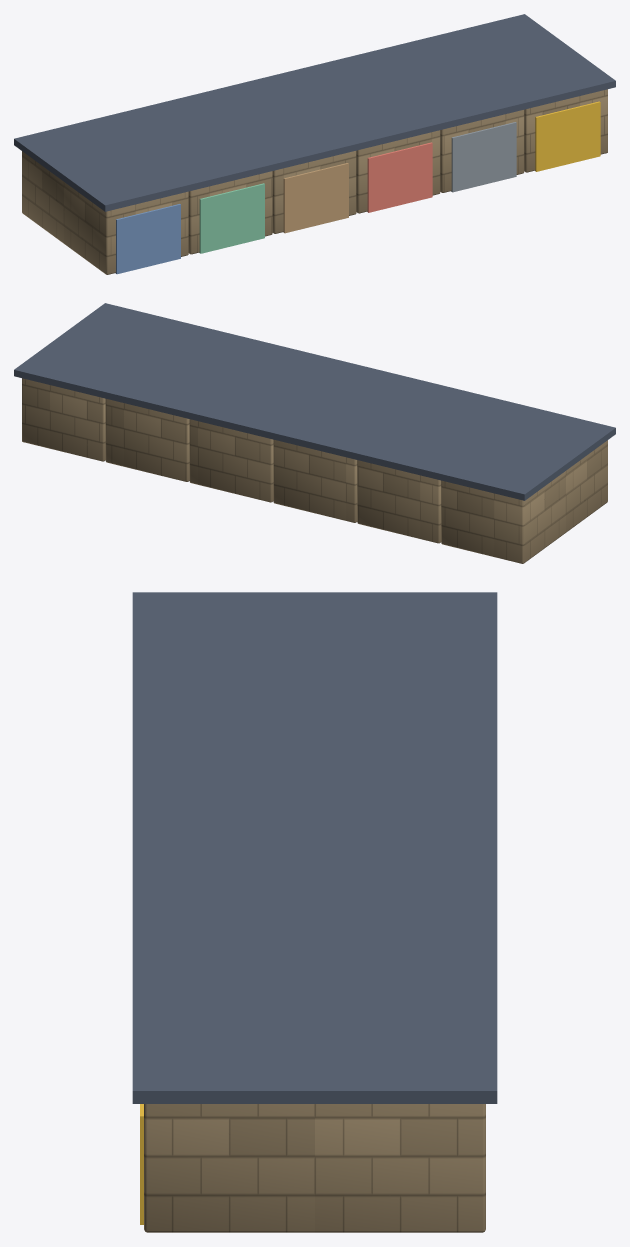
File: garages_row.gltf
The picture shows the model from 3 angles, top to bottom: view 1: azimuth 30°, elevation 25°; view 2: azimuth 150°, elevation 25°; view 3: azimuth 270°, elevation 25°; orthographic projection. The views are drawn at different scales.
Visible parts, largest first — view 1: garages_row_mesh; view 2: garages_row_mesh; view 3: garages_row_mesh.
Boxes of the visible parts, bbox=[...] form: garages_row_mesh: bbox=[14, 14, 615, 274]; garages_row_mesh: bbox=[14, 303, 615, 563]; garages_row_mesh: bbox=[132, 592, 497, 1232].
Size of what is drawn, in the model's own units: 20.7 by 2.85 by 6.4.
8 materials, 1 textured.
